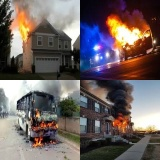fire: (105, 18, 149, 50), (30, 114, 57, 146), (17, 12, 29, 40), (112, 113, 128, 133)
